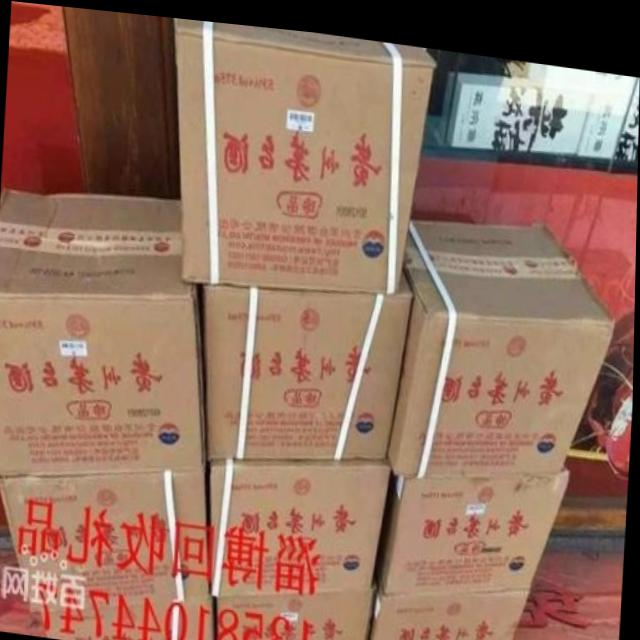box: (177, 14, 435, 283), (0, 186, 208, 477), (388, 209, 617, 468), (201, 268, 413, 458), (0, 463, 212, 613), (377, 448, 572, 586), (211, 451, 389, 594), (216, 579, 378, 640), (369, 579, 530, 640), (37, 594, 220, 640)
